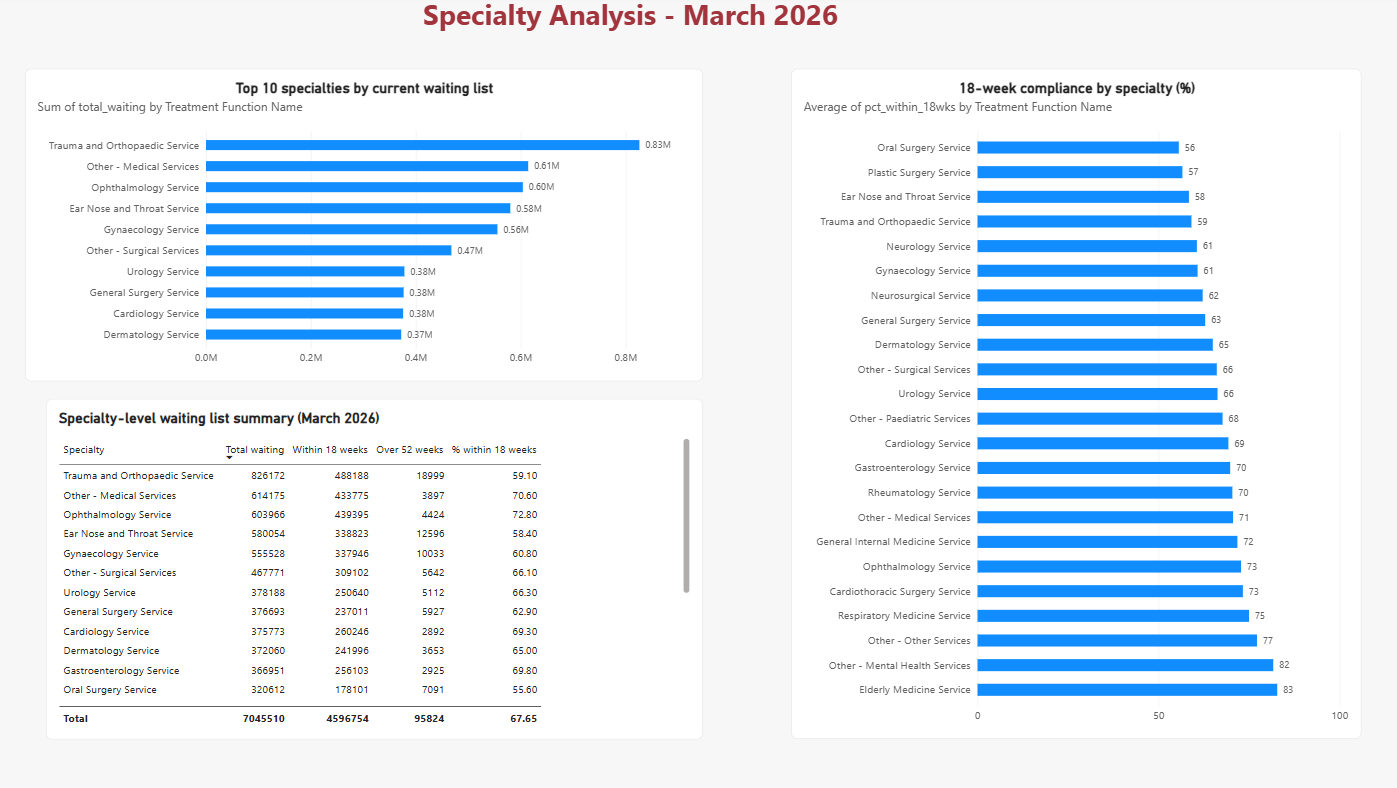

The page's visual inventory and layout, read from the dashboard file:
{"tool":"powerbi","page":{"name":"Specialty Analysis","canvas":[1920,1080],"ordinal":1},"visuals":[{"type":"textbox","box":[119.4,0,1483.9,99.5],"z":0},{"type":"clusteredBarChart","title":"Top 10 specialties by current waiting list","fields":{"Category":["rtt_specialty_trend.Treatment Function Name"],"Y":["Sum(rtt_specialty_trend.total_waiting)"]},"box":[53.5,98.8,905.7,417.8],"z":1000},{"type":"clusteredBarChart","title":"18-week compliance by specialty (%)","fields":{"Category":["rtt_specialty_trend.Treatment Function Name"],"Y":["Avg(rtt_specialty_trend.pct_within_18wks)"]},"box":[1076.5,98.8,761.6,895.4],"z":2000},{"type":"tableEx","title":"Specialty-level waiting list summary (March 2026)","fields":{"Values":["rtt_specialty_trend.Treatment Function Name","Sum(rtt_specialty_trend.total_waiting)","Sum(rtt_specialty_trend.waiting_within_18wks)","Sum(rtt_specialty_trend.waiting_over_52wks)","Avg(rtt_specialty_trend.pct_within_18wks)"]},"box":[82.3,539.3,876.8,454.9],"z":3000}]}

Visuals, with their boxes in screenshot pixels (x1, y1, x2, y2), scaled from the page's 1920x1080 canvas onto the 1397x788 screenshot:
textbox: bbox=(87, 0, 1167, 73)
"Top 10 specialties by current waiting list" clusteredBarChart: bbox=(39, 72, 698, 377)
"18-week compliance by specialty (%)" clusteredBarChart: bbox=(783, 72, 1337, 725)
"Specialty-level waiting list summary (March 2026)" tableEx: bbox=(60, 393, 698, 725)
